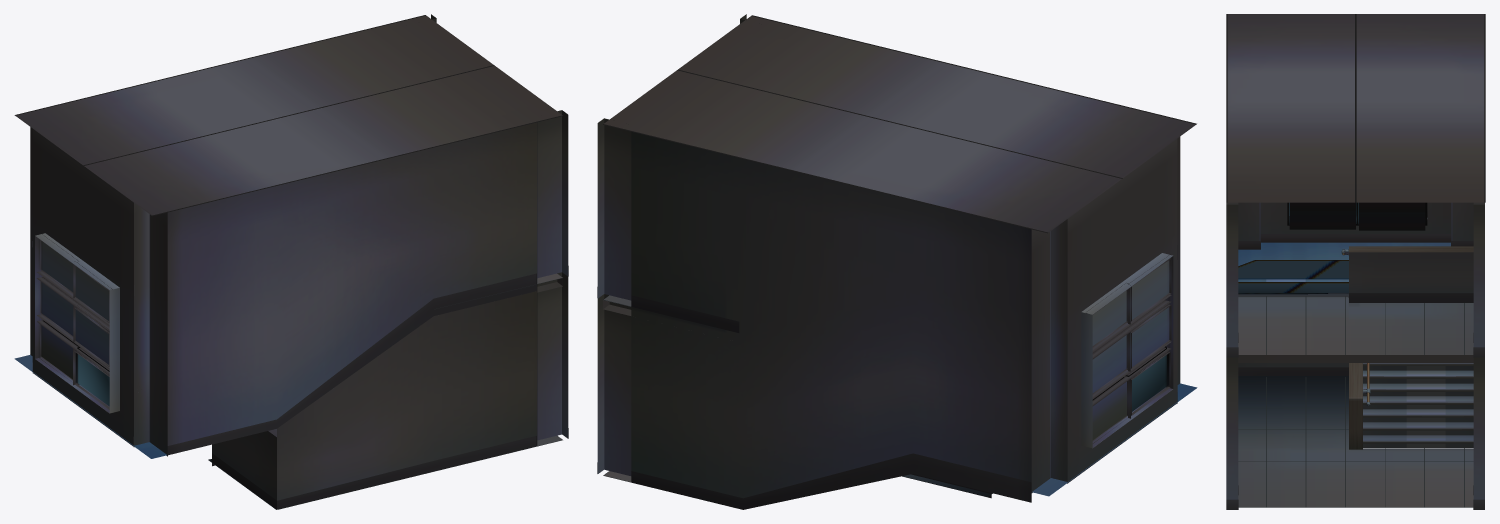
Rendered from JpsStairs_lowfloorB_night.FBX.
The picture shows the model from 3 angles, left to right: view 1: azimuth 30°, elevation 25°; view 2: azimuth 150°, elevation 25°; view 3: azimuth 270°, elevation 25°; orthographic projection. The views are drawn at different scales.
Visible parts, largest first — view 1: Sta_LowF_B_wallB_nig, Sta_LowF_B_StairsCeiling_nig, Sta_LowF_B_window_nig, Sta_LowF_B_stairs_nig, Sta_LowF_B_beam_add_nig; view 2: Sta_LowF_B_wallF_nig, Sta_LowF_B_StairsCeiling_nig, Sta_LowF_B_window_nig, Sta_LowF_B_stairs_nig, Sta_LowF_B_beam_add_nig; view 3: Sta_LowF_B_stairs_nig, Sta_LowF_B_StairsCeiling_nig, Sta_LowF_B_window_nig, Sta_LowF_B_wallB_nig, Sta_LowF_B_beam01_add_nig, Sta_LowF_B_wallF_nig, Sta_LowF_B_spotF_nig, Sta_LowF_B_baseboards_nig.
Boxes of the visible parts, x1=… form: Sta_LowF_B_wallB_nig: x1=167, y1=110, x2=568, y2=509; Sta_LowF_B_StairsCeiling_nig: x1=14, y1=15, x2=562, y2=216; Sta_LowF_B_window_nig: x1=30, y1=127, x2=167, y2=455; Sta_LowF_B_stairs_nig: x1=14, y1=273, x2=562, y2=509; Sta_LowF_B_beam_add_nig: x1=43, y1=320, x2=109, y2=406; Sta_LowF_B_wallF_nig: x1=597, y1=118, x2=1031, y2=509; Sta_LowF_B_StairsCeiling_nig: x1=603, y1=15, x2=1196, y2=233; Sta_LowF_B_window_nig: x1=1031, y1=136, x2=1180, y2=491; Sta_LowF_B_stairs_nig: x1=603, y1=295, x2=1197, y2=498; Sta_LowF_B_beam_add_nig: x1=1092, y1=346, x2=1166, y2=411; Sta_LowF_B_stairs_nig: x1=1238, y1=242, x2=1473, y2=507; Sta_LowF_B_StairsCeiling_nig: x1=1226, y1=14, x2=1485, y2=202; Sta_LowF_B_window_nig: x1=1238, y1=202, x2=1473, y2=240; Sta_LowF_B_wallB_nig: x1=1226, y1=202, x2=1238, y2=509; Sta_LowF_B_beam01_add_nig: x1=1289, y1=202, x2=1425, y2=230; Sta_LowF_B_wallF_nig: x1=1473, y1=202, x2=1484, y2=509; Sta_LowF_B_spotF_nig: x1=1238, y1=260, x2=1348, y2=294; Sta_LowF_B_baseboards_nig: x1=1238, y1=234, x2=1473, y2=249.
Size of the model in its own units: 826 by 607 by 463.
